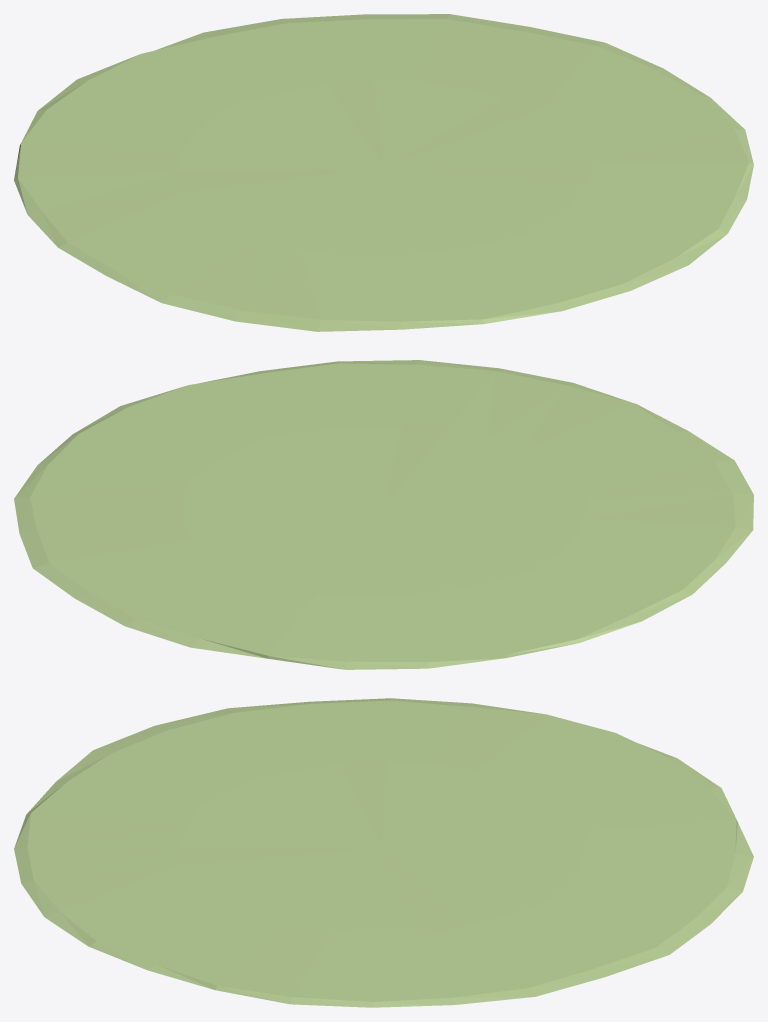
File: nature_meadow_disc.glb
The picture shows the model from 3 angles, top to bottom: view 1: azimuth 30°, elevation 25°; view 2: azimuth 150°, elevation 25°; view 3: azimuth 270°, elevation 25°; orthographic projection. The views are drawn at different scales.
Parts seen in each view (by area): view 1: world; view 2: world; view 3: world.
Part boxes in pixels (x1,y1,x2,y2): world: (14,14,753,331); world: (14,360,753,669); world: (14,698,753,1007).
Bounding box in the file's own units: 1.98 × 0.015 × 2.
